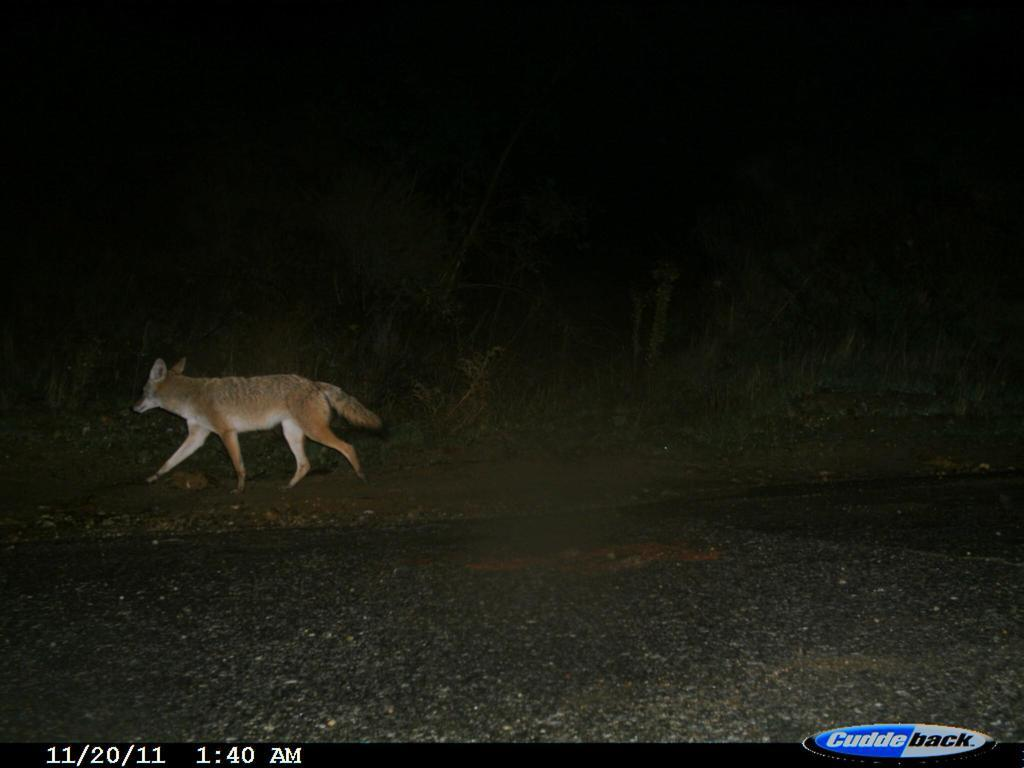coyote: (129, 351, 386, 493)
